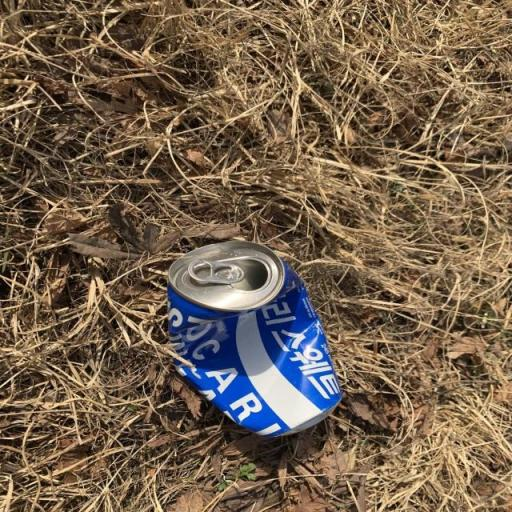metal: (150, 218, 368, 454)
